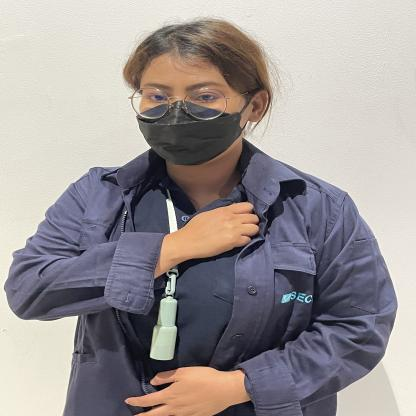Sadness: (120, 179, 292, 298)
